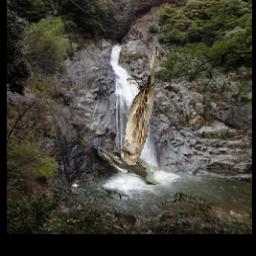Cuckoo: (98, 147, 163, 186)
Sparrow: (121, 46, 159, 166)
